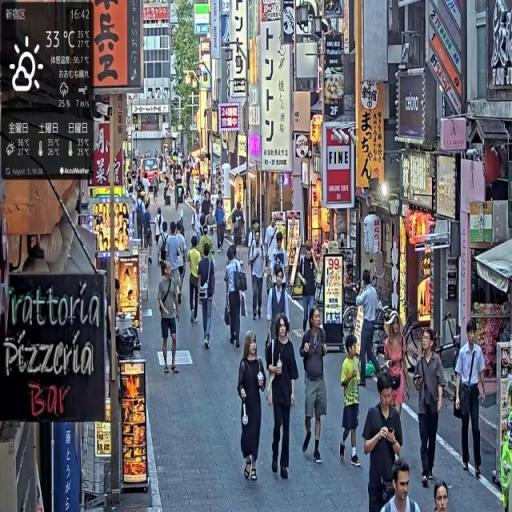person: (363, 372, 405, 512), (267, 311, 300, 488), (413, 329, 447, 488), (236, 333, 271, 487), (454, 321, 487, 484), (301, 307, 330, 466), (340, 333, 364, 469), (355, 268, 381, 392), (383, 311, 411, 421), (158, 260, 183, 379), (224, 245, 248, 351), (196, 239, 218, 352), (297, 238, 319, 340), (383, 457, 423, 512), (268, 266, 292, 353), (250, 227, 267, 321), (266, 213, 285, 294), (271, 230, 290, 308), (187, 236, 203, 327), (167, 220, 182, 308), (176, 221, 190, 305), (231, 200, 247, 268), (157, 222, 172, 283), (248, 218, 266, 267), (155, 207, 169, 263), (135, 194, 148, 250), (204, 206, 218, 253), (215, 199, 227, 253), (433, 480, 453, 512), (191, 200, 205, 245), (143, 205, 153, 266), (176, 178, 188, 223), (153, 170, 161, 207), (164, 171, 172, 207), (142, 172, 151, 203)
